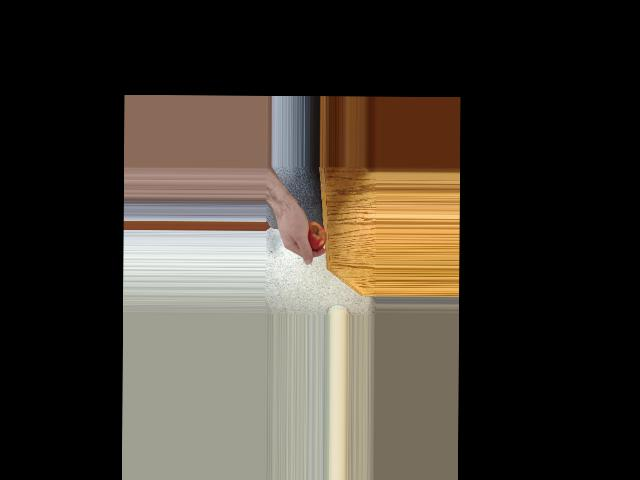apple: (298, 221, 326, 251)
